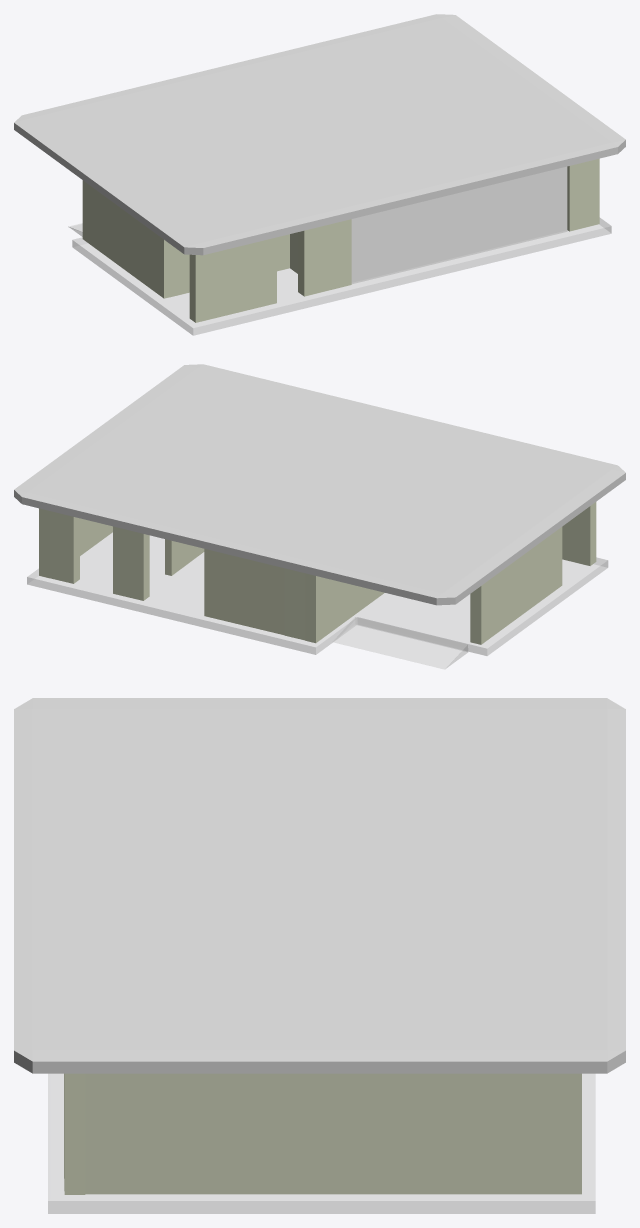
File: building17.glb
3 views of the same model, one above another, from view 1: azimuth 30°, elevation 25°; view 2: azimuth 150°, elevation 25°; view 3: azimuth 270°, elevation 25° (orthographic). The views are drawn at different scales.
Visible parts, largest first — view 1: roof, Walls, backyard-glass, floor; view 2: roof, Walls, floor, Cube; view 3: roof, Walls, floor.
Part boxes in pixels (bbox=[...]): roof: bbox=[14, 14, 625, 255]; Walls: bbox=[82, 158, 599, 322]; backyard-glass: bbox=[351, 166, 567, 283]; floor: bbox=[72, 218, 611, 335]; roof: bbox=[14, 364, 625, 605]; Walls: bbox=[39, 502, 596, 644]; floor: bbox=[27, 532, 608, 655]; Cube: bbox=[333, 617, 468, 669]; roof: bbox=[14, 698, 625, 1073]; Walls: bbox=[64, 1073, 581, 1194]; floor: bbox=[48, 1073, 595, 1213].
Bounding box in the file's own units: 15.42 × 3.22 × 10.97.
